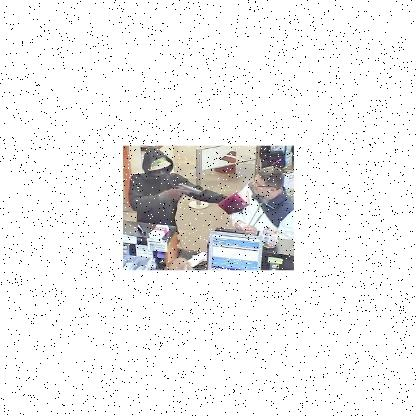gun: (171, 182, 202, 204)
